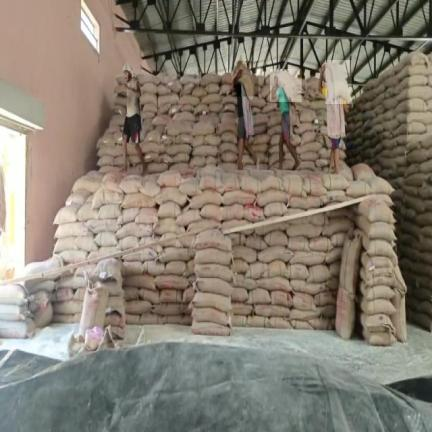Zone-Counting: (319, 61, 350, 173), (271, 70, 300, 169), (233, 62, 259, 169)
